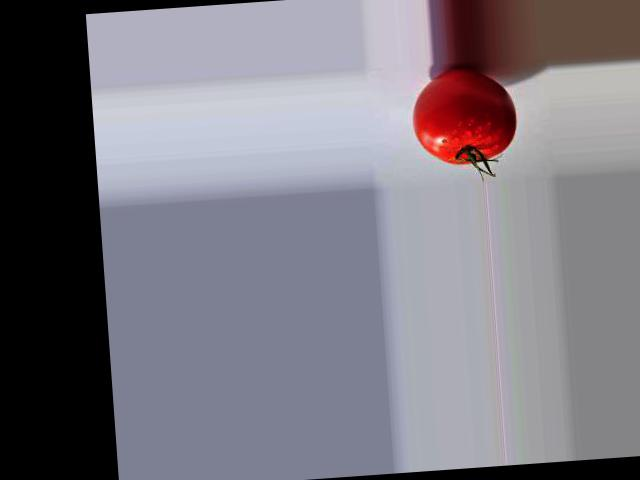tomato: (409, 64, 518, 165)
